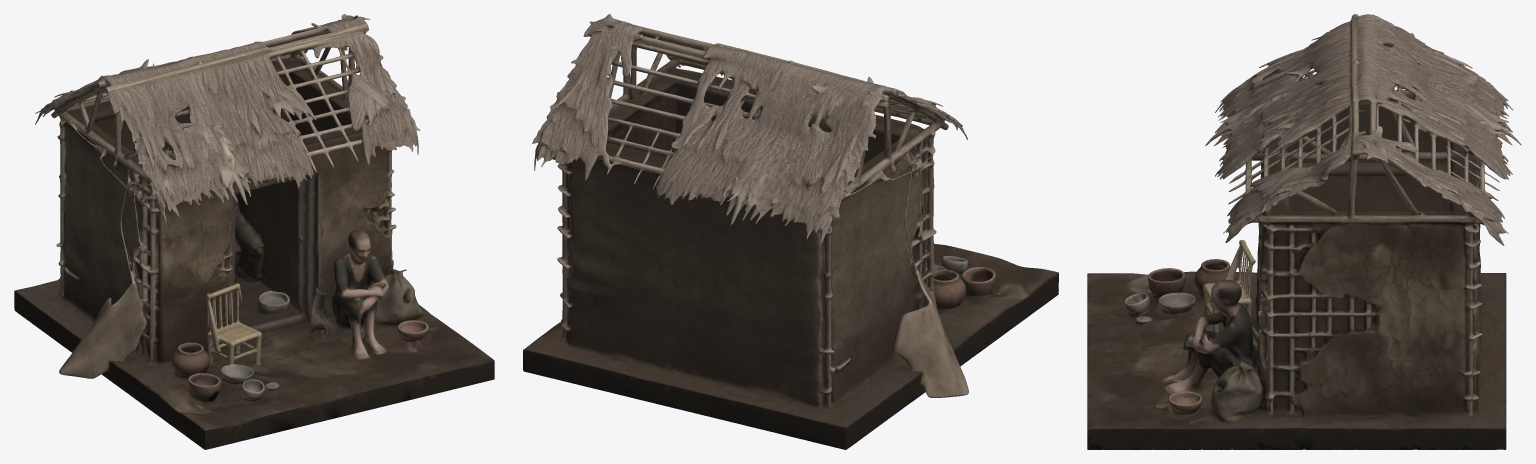
The model's file is nan_doi_1945.glb.
The picture shows the model from 3 angles, left to right: view 1: azimuth 30°, elevation 25°; view 2: azimuth 150°, elevation 25°; view 3: azimuth 270°, elevation 25°; orthographic projection. The views are drawn at different scales.
Size of the model in its own units: 1.46 by 1.18 by 1.54.
Materials: 1 (1 with a texture image).
